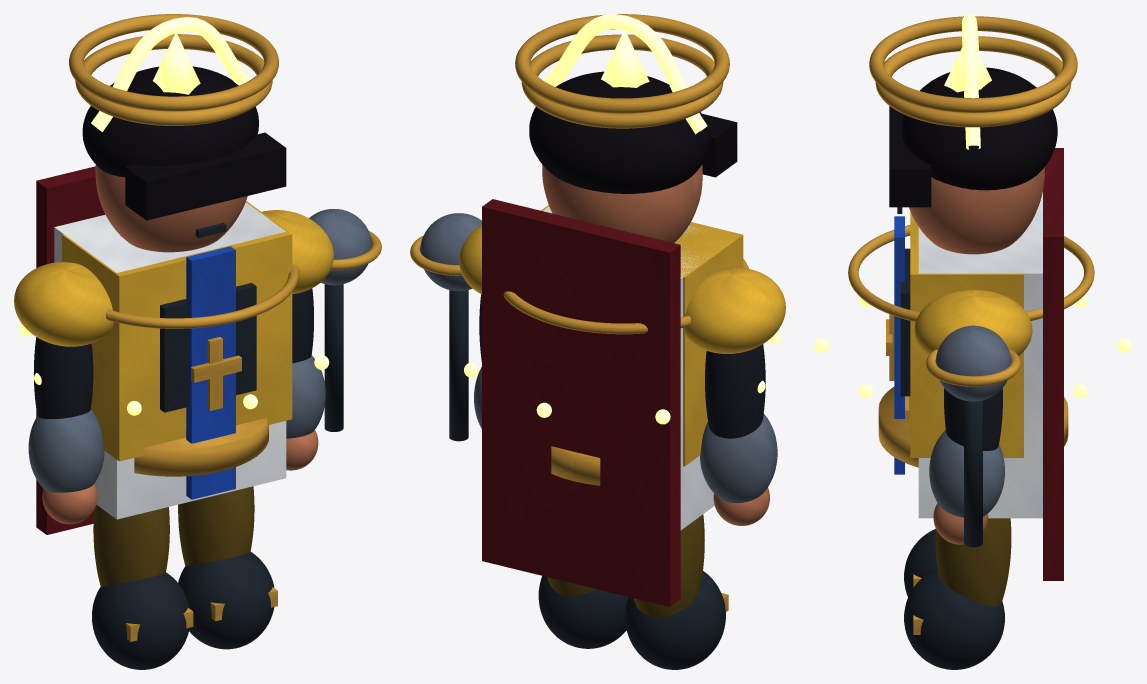
The model's file is Transcendence.glb.
3 renders of one model, left to right at view 1: azimuth 30°, elevation 25°; view 2: azimuth 150°, elevation 25°; view 3: azimuth 270°, elevation 25°, orthographic. The views are drawn at different scales.
Visible parts, largest first — view 1: ChestPlate, WhiteRobe, Hair, BlueStole, HairFringe, Boot, Boot.001, Shoulder, DivineHalo, Head, Gauntlet, Leg (+19 smaller); view 2: Cape, Hair, Shoulder, DivineHalo, Head, ChestPlate, Boot, CrownRing, Arm, Gauntlet, Boot.001, TranscendentCrest (+11 smaller); view 3: WhiteRobe, Hair, Cape, ChestPlate, Head, Boot.001, DivineHalo, CrownRing, Shoulder.001, Leg.001, MaceHead, Gauntlet.001 (+12 smaller).
Boxes of the visible parts, x1,y1,x2,y2 form: ChestPlate: (62,201,292,461); WhiteRobe: (54,202,286,519); Hair: (82,66,258,177); BlueStole: (186,246,235,499); HairFringe: (125,132,286,220); Boot: (92,572,189,669); Boot.001: (178,552,274,649); Shoulder: (14,262,113,346); DivineHalo: (69,14,278,111); Head: (95,164,247,252); Gauntlet: (28,409,104,492); Leg: (93,505,169,586); Cape: (482,199,680,606); Hair: (529,71,709,193); Shoulder: (683,267,785,353); DivineHalo: (515,14,729,113); Head: (542,164,702,242); ChestPlate: (541,205,743,466); Boot: (625,571,725,669); CrownRing: (521,34,723,128); Arm: (705,344,765,438); Gauntlet: (700,413,777,502); Boot.001: (538,576,628,648); TranscendentCrest: (544,14,707,134); WhiteRobe: (918,192,1042,518); Hair: (902,67,1057,190); Cape: (1043,148,1063,580); ChestPlate: (910,211,1023,457); Head: (909,167,1044,254); Boot.001: (904,569,1004,669); DivineHalo: (869,16,1077,112); CrownRing: (875,36,1071,127); Shoulder.001: (914,290,1032,355); Leg.001: (935,518,1011,606); MaceHead: (935,325,1011,401); Gauntlet.001: (929,430,1004,517).
Bounding box in the file's own units: 1.92 × 3.27 × 1.51.
14 materials, 11 textured.
